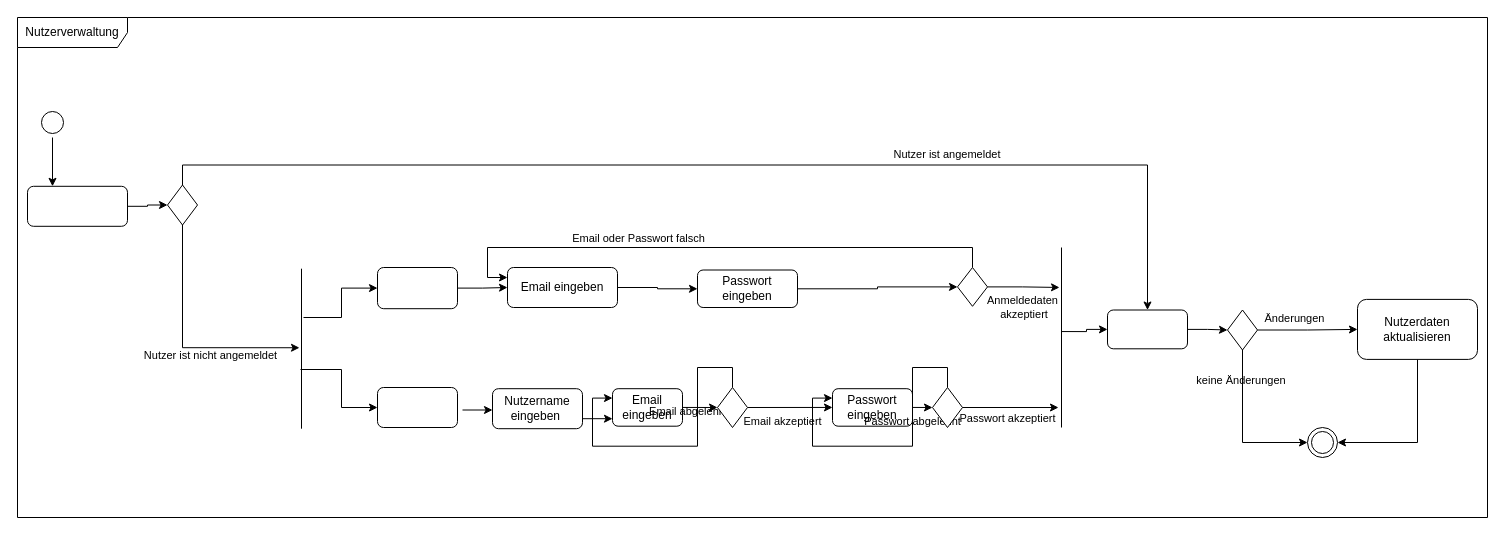
Some shapes in this 1505 by 535 pixel diagram are drawn without their labels. Here are the shapes that lost their labels. From the top down, the centre of each, then its label:
At (x=77, y=205): "Anmeldeseite".
At (x=417, y=287): "Anmelden".
At (x=1147, y=329): "Angemeldet".
At (x=417, y=407): "Registrierung".
